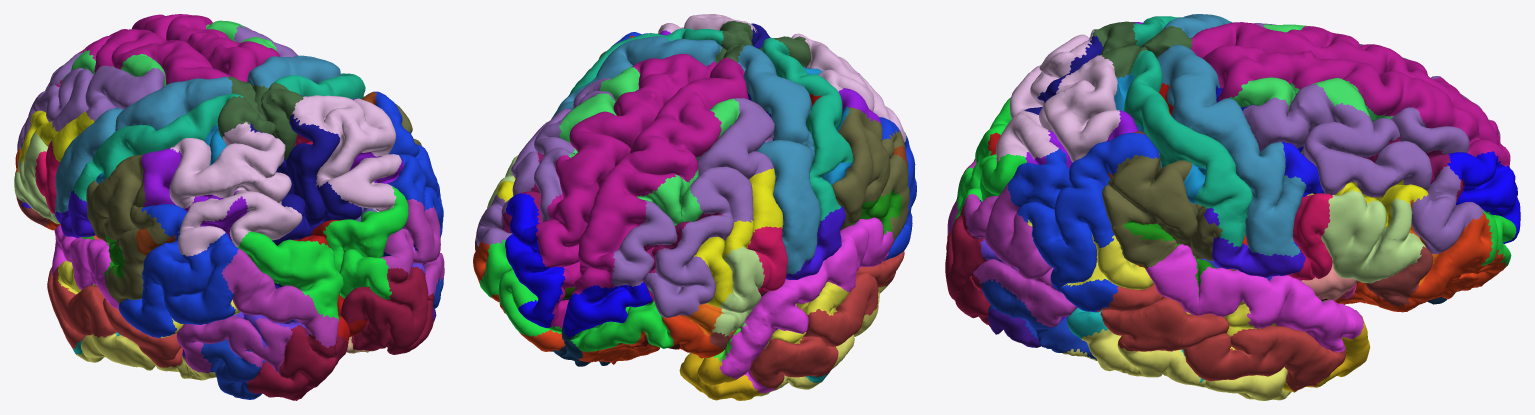
File: cortex-destrieux.glb
3 renders of one model, left to right at view 1: azimuth 30°, elevation 25°; view 2: azimuth 150°, elevation 25°; view 3: azimuth 270°, elevation 25°, orthographic. The views are drawn at different scales.
Visible parts, largest first — view 1: destrieux:left:27, destrieux:left:25, destrieux:left:19, destrieux:right:27, destrieux:left:26, destrieux:left:29, destrieux:right:43, destrieux:left:15, destrieux:right:20, destrieux:left:20, destrieux:left:38, destrieux:left:28 (+30 smaller); view 2: destrieux:left:15, destrieux:left:16, destrieux:right:16, destrieux:left:29, destrieux:left:34, destrieux:left:38, destrieux:left:26, destrieux:left:28, destrieux:right:15, destrieux:right:5, destrieux:left:53, destrieux:right:29 (+25 smaller); view 3: destrieux:right:15, destrieux:right:25, destrieux:right:38, destrieux:right:29, destrieux:right:34, destrieux:right:16, destrieux:right:26, destrieux:right:28, destrieux:right:27, destrieux:right:19, destrieux:left:16, destrieux:right:14 (+29 smaller).
Boxes of the visible parts, x1=… form: destrieux:left:27: x1=169, y1=122, x2=302, y2=256; destrieux:left:25: x1=118, y1=204, x2=238, y2=338; destrieux:left:19: x1=176, y1=248, x2=338, y2=374; destrieux:right:27: x1=292, y1=95, x2=401, y2=211; destrieux:left:26: x1=86, y1=154, x2=169, y2=304; destrieux:left:29: x1=55, y1=76, x2=232, y2=212; destrieux:right:43: x1=340, y1=267, x2=434, y2=354; destrieux:left:15: x1=17, y1=52, x2=164, y2=150; destrieux:right:20: x1=323, y1=186, x2=408, y2=299; destrieux:left:20: x1=237, y1=231, x2=344, y2=320; destrieux:left:38: x1=47, y1=267, x2=183, y2=367; destrieux:left:28: x1=72, y1=93, x2=243, y2=201; destrieux:left:15: x1=611, y1=98, x2=774, y2=317; destrieux:left:16: x1=570, y1=58, x2=748, y2=297; destrieux:right:16: x1=536, y1=54, x2=716, y2=330; destrieux:left:29: x1=737, y1=44, x2=820, y2=274; destrieux:left:34: x1=719, y1=217, x2=893, y2=393; destrieux:left:38: x1=749, y1=251, x2=904, y2=388; destrieux:left:26: x1=831, y1=107, x2=909, y2=244; destrieux:left:28: x1=762, y1=38, x2=853, y2=227; destrieux:right:15: x1=476, y1=78, x2=615, y2=246; destrieux:right:5: x1=505, y1=193, x2=565, y2=327; destrieux:left:53: x1=694, y1=168, x2=783, y2=307; destrieux:right:29: x1=551, y1=36, x2=721, y2=119; destrieux:right:15: x1=1242, y1=83, x2=1483, y2=254; destrieux:right:25: x1=1007, y1=132, x2=1159, y2=312; destrieux:right:38: x1=1096, y1=283, x2=1345, y2=391; destrieux:right:29: x1=1157, y1=45, x2=1306, y2=257; destrieux:right:34: x1=1145, y1=244, x2=1363, y2=352; destrieux:right:16: x1=1202, y1=45, x2=1509, y2=167; destrieux:right:26: x1=1102, y1=153, x2=1222, y2=268; destrieux:right:28: x1=1124, y1=50, x2=1252, y2=247; destrieux:right:27: x1=996, y1=55, x2=1120, y2=163; destrieux:right:19: x1=963, y1=182, x2=1077, y2=327; destrieux:left:16: x1=1191, y1=22, x2=1510, y2=166; destrieux:right:14: x1=1320, y1=190, x2=1425, y2=283.
Size of the model in its own units: 0.1276 by 0.1108 by 0.1827.
